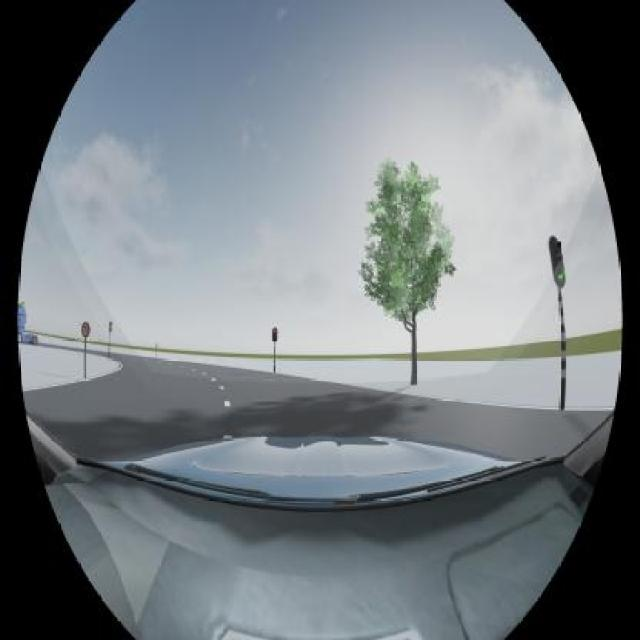forb_speed_over_70: (82, 322, 91, 338)
